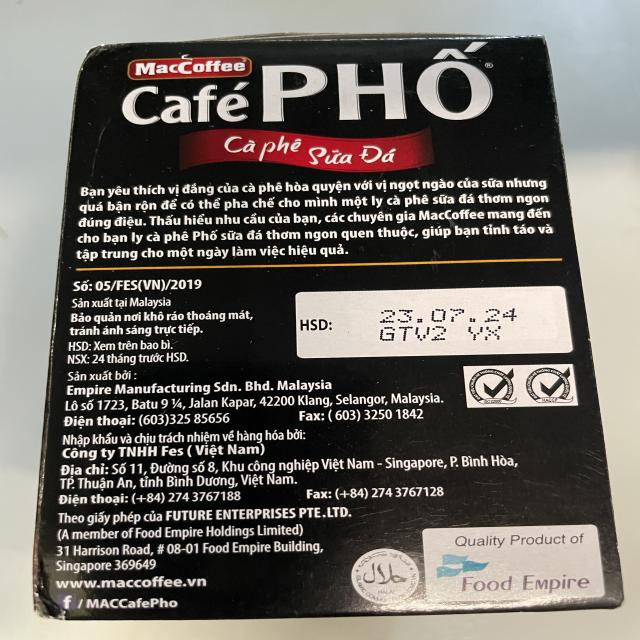object_name: (67, 46, 609, 611)
